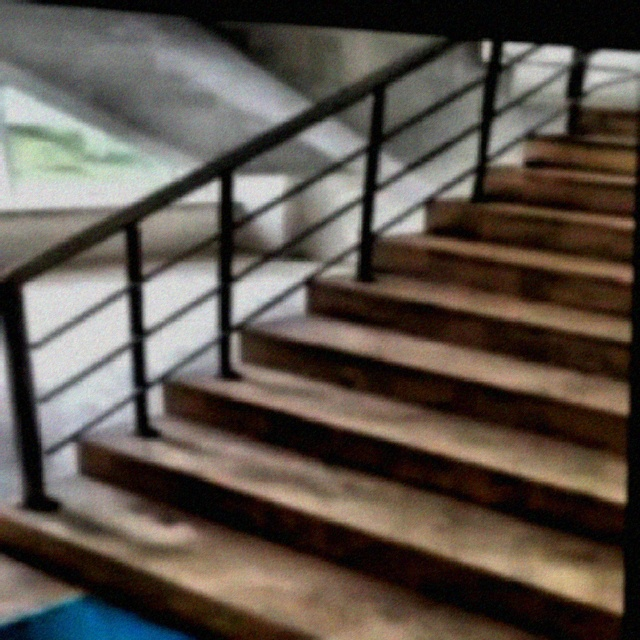stair: (0, 50, 637, 639)
